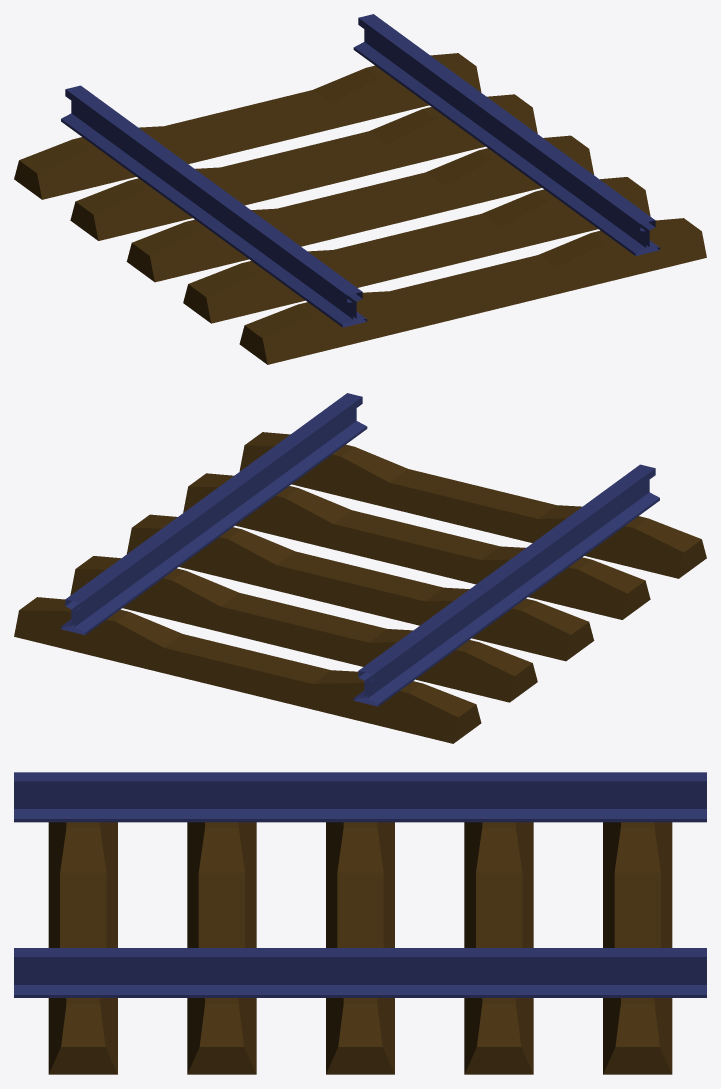
File: SM_Rails_3m.fbx
3 renders of one model, top to bottom at view 1: azimuth 30°, elevation 25°; view 2: azimuth 150°, elevation 25°; view 3: azimuth 270°, elevation 25°, orthographic. The views are drawn at different scales.
Parts seen in each view (by area): view 1: SM_Rails_3m_LOD0; view 2: SM_Rails_3m_LOD0; view 3: SM_Rails_3m_LOD0.
Part boxes in pixels (x1,y1,x2,y2): SM_Rails_3m_LOD0: (14, 14, 706, 364); SM_Rails_3m_LOD0: (14, 393, 706, 743); SM_Rails_3m_LOD0: (14, 772, 706, 1074).
Size of what is drawn, in the model's own units: 270 by 37.44 by 300.
